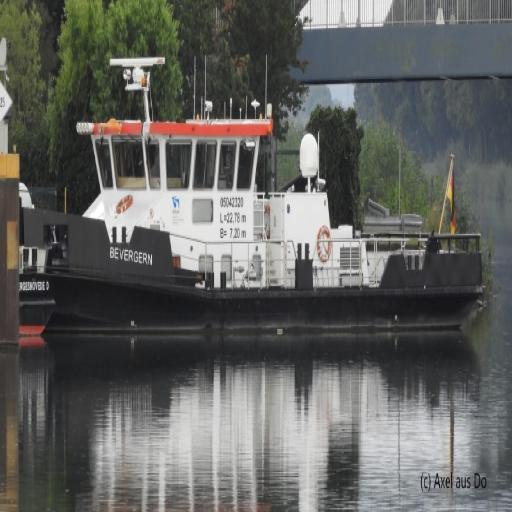tugboat: (19, 55, 490, 352)
